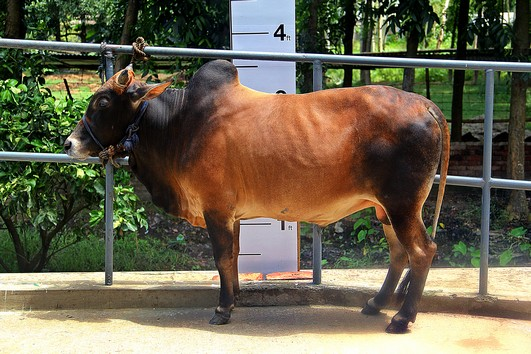cow: (58, 54, 451, 337)
